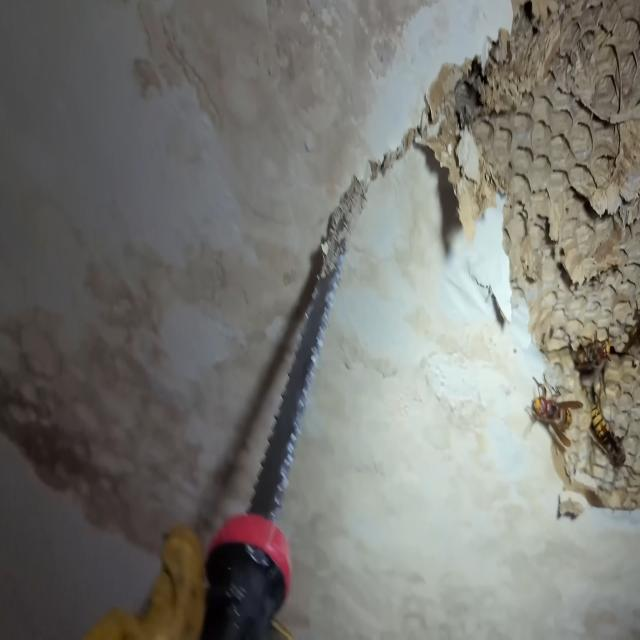Hornets: (523, 372, 584, 449), (589, 394, 629, 469), (568, 328, 614, 377)
